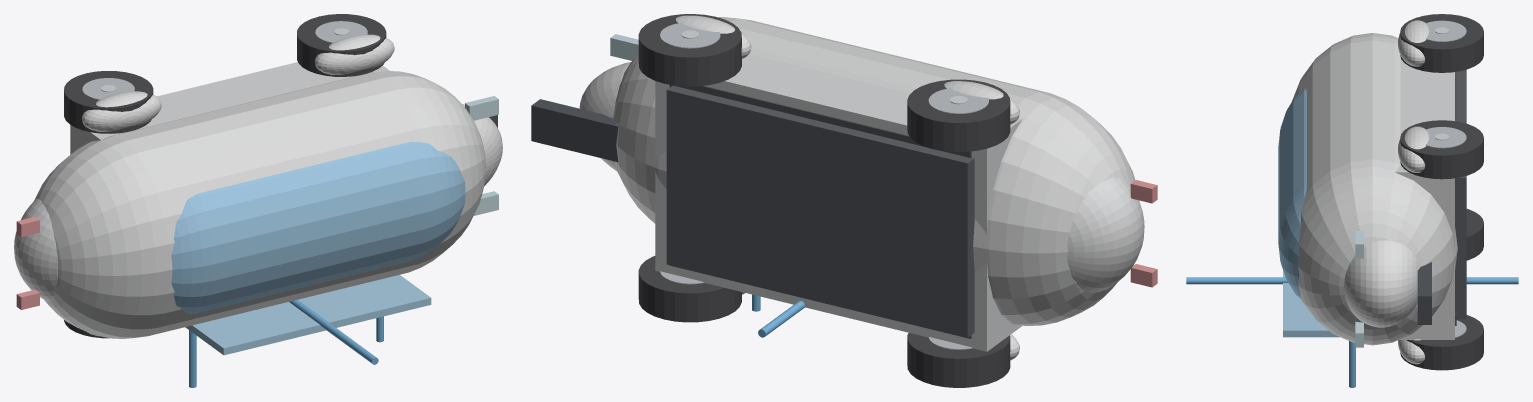
The model's file is aero_capsule.glb.
3 views of the same model, side by side, from view 1: azimuth 30°, elevation 25°; view 2: azimuth 150°, elevation 25°; view 3: azimuth 270°, elevation 25° (orthographic). The views are drawn at different scales.
Parts seen in each view (by area): view 1: body_main, glass_canopy, side_door_glass, body_lower, rear, tire_0, tire_2, arch_0.92_0.73, arch_-0.82_0.73, nose, door_rail_1.38, rim_0 (+4 smaller); view 2: underside, body_main, body_lower, rear, tire_0, tire_2, tire_3, tire_1, front_intake, sill_0.54, nose, rim_0 (+6 smaller); view 3: body_main, body_lower, nose, glass_canopy, tire_2, tire_0, tire_1, underside, side_door_glass, arch_0.92_0.73, arch_-0.82_0.73, front_intake (+7 smaller).
Part boxes in pixels (<box>): body_main: <box>34,71,485,338</box>; glass_canopy: <box>171,141,465,313</box>; side_door_glass: <box>185,275,431,355</box>; body_lower: <box>70,62,389,154</box>; rear: <box>14,199,57,301</box>; tire_0: <box>297,14,386,76</box>; tire_2: <box>64,71,153,133</box>; arch_0.92_0.73: <box>314,34,394,74</box>; arch_-0.82_0.73: <box>81,91,161,131</box>; nose: <box>462,104,502,186</box>; door_rail_1.38: <box>289,299,378,364</box>; rim_0: <box>315,21,367,43</box>; underside: <box>666,85,974,337</box>; body_main: <box>613,17,1139,325</box>; body_lower: <box>655,54,1022,351</box>; rear: <box>1067,178,1144,292</box>; tire_0: <box>638,14,741,86</box>; tire_2: <box>907,79,1010,151</box>; tire_3: <box>907,333,1010,387</box>; tire_1: <box>638,256,741,322</box>; front_intake: <box>531,99,618,161</box>; sill_0.54: <box>669,85,971,157</box>; nose: <box>579,62,630,171</box>; rim_0: <box>660,23,720,48</box>; body_main: <box>1292,33,1457,345</box>; body_lower: <box>1395,41,1454,339</box>; nose: <box>1344,240,1420,327</box>; glass_canopy: <box>1278,88,1306,298</box>; tire_2: <box>1400,14,1483,72</box>; tire_0: <box>1400,120,1483,179</box>; tire_1: <box>1400,315,1483,370</box>; underside: <box>1455,69,1466,319</box>; side_door_glass: <box>1283,270,1339,337</box>; arch_0.92_0.73: <box>1398,126,1428,172</box>; arch_-0.82_0.73: <box>1398,20,1428,66</box>; front_intake: <box>1417,262,1431,324</box>.
Bounding box in the file's own units: 3.78 × 1.96 × 2.3.
